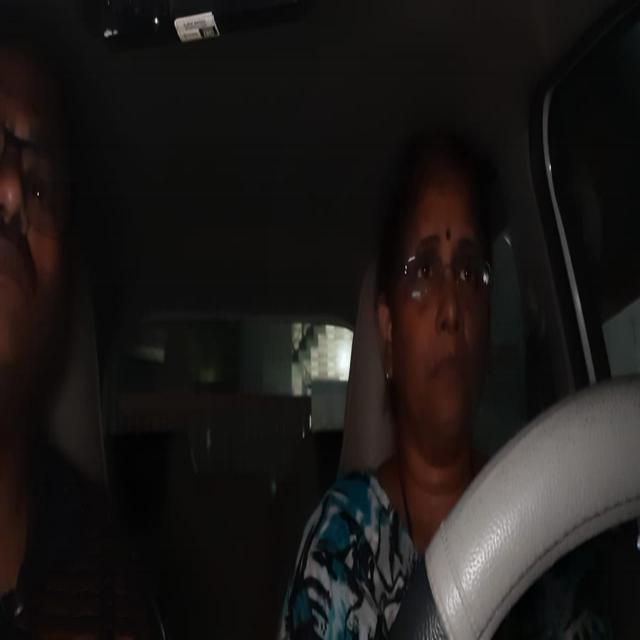person: (386, 181, 488, 437), (0, 34, 71, 375)
